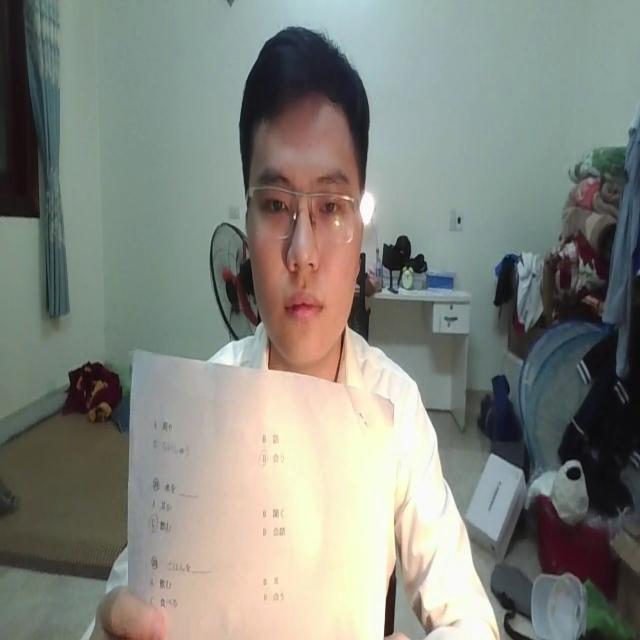book: (124, 339, 391, 640)
student: (196, 23, 489, 640)
